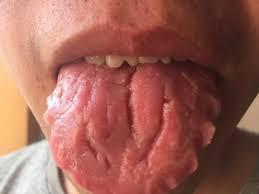baitaishe: (44, 69, 223, 194)
chihenshe: (158, 102, 223, 192), (44, 97, 75, 185)
liewenshe: (121, 78, 137, 139)
pangdashe: (44, 69, 223, 194)
